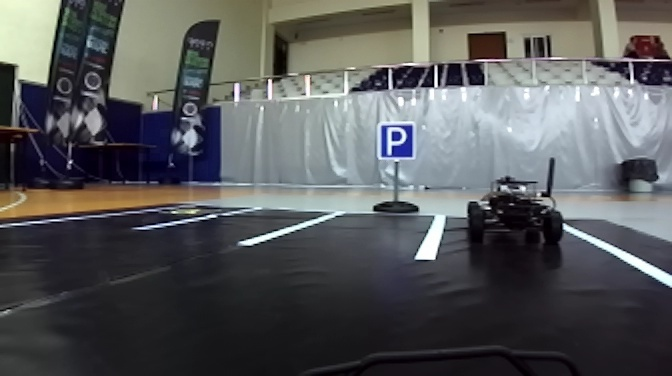park: (375, 122, 420, 163)
